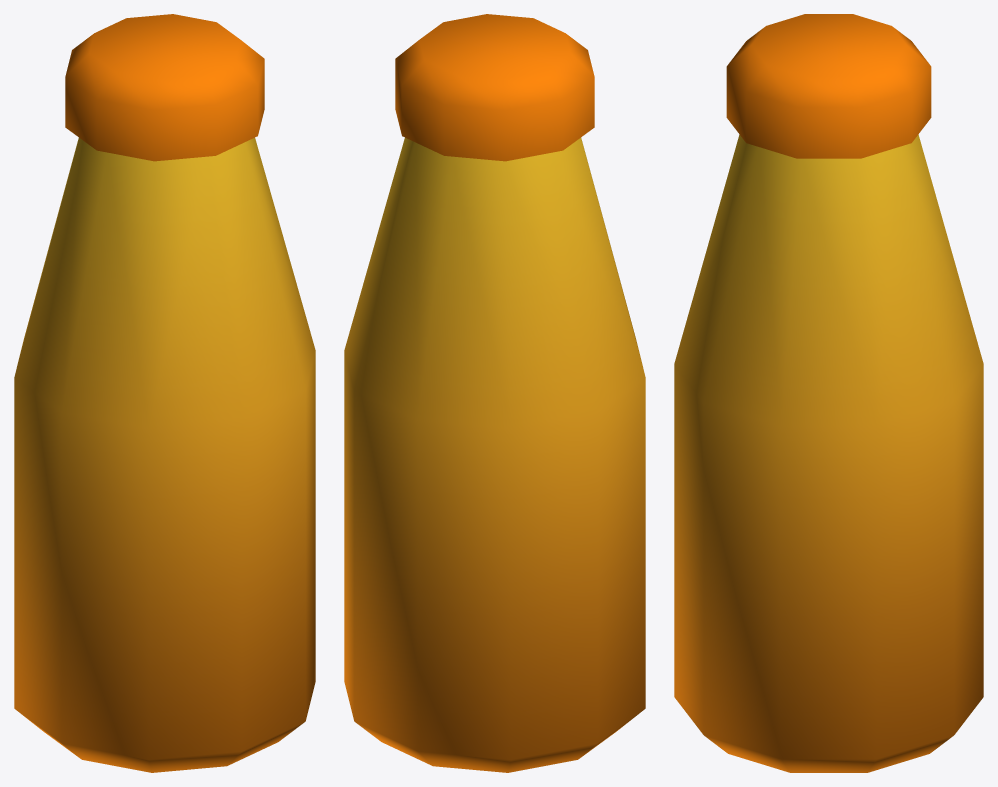
The model's file is bottle_small_orange.fbx.
3 views of the same model, side by side, from view 1: azimuth 30°, elevation 25°; view 2: azimuth 150°, elevation 25°; view 3: azimuth 270°, elevation 25° (orthographic).
Visible parts, largest first — view 1: bottle_small_orange; view 2: bottle_small_orange; view 3: bottle_small_orange.
Part boxes in pixels (box(x1,y1,x2,y2)): bottle_small_orange: box(14, 14, 315, 772); bottle_small_orange: box(344, 14, 645, 772); bottle_small_orange: box(674, 14, 983, 772).
Bounding box in the file's own units: 33.8 × 85.83 × 35.54.
